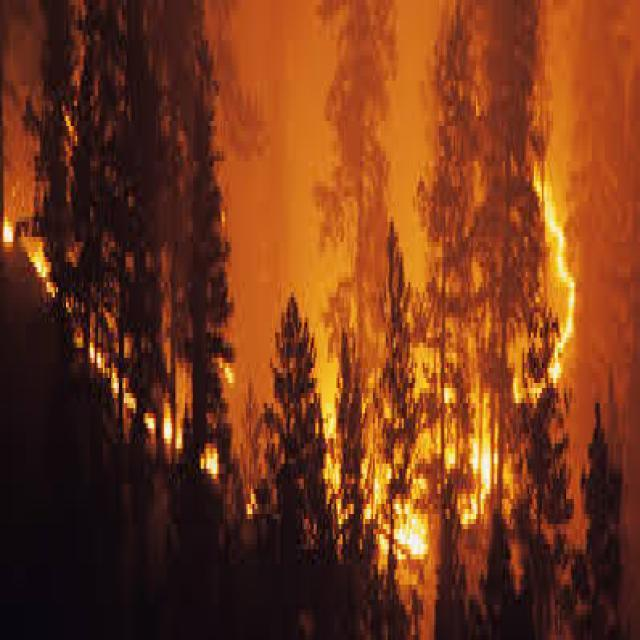Fire: (2, 6, 640, 636)
